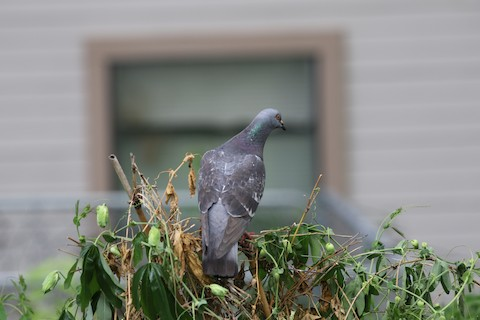pigeon: (189, 107, 291, 282)
